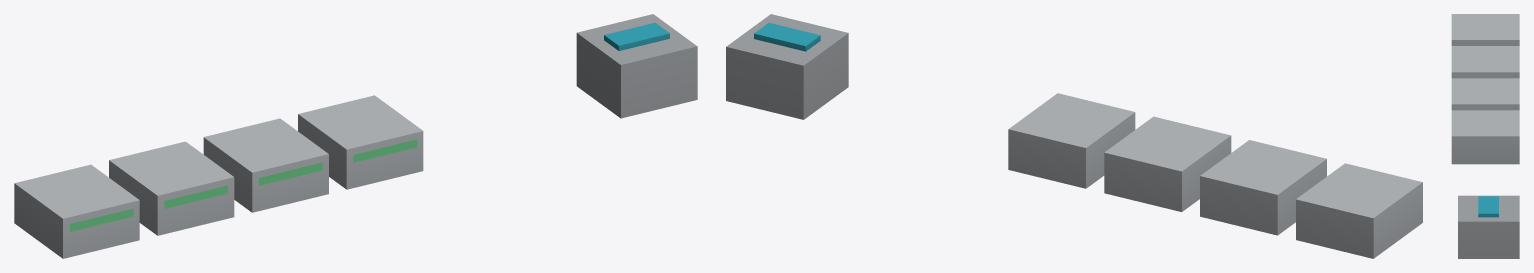
Rendered from plant_battery_l1.fbx.
3 renders of one model, left to right at view 1: azimuth 30°, elevation 25°; view 2: azimuth 150°, elevation 25°; view 3: azimuth 270°, elevation 25°, orthographic. The views are drawn at different scales.
Parts seen in each view (by area): view 1: plant_battery_l1; view 2: plant_battery_l1; view 3: plant_battery_l1.
Part boxes in pixels (x1,y1,x2,y2): plant_battery_l1: (14, 14, 697, 258); plant_battery_l1: (726, 14, 1422, 258); plant_battery_l1: (1451, 14, 1519, 258).
Bounding box in the file's own units: 50 × 4.4 × 6.62.
